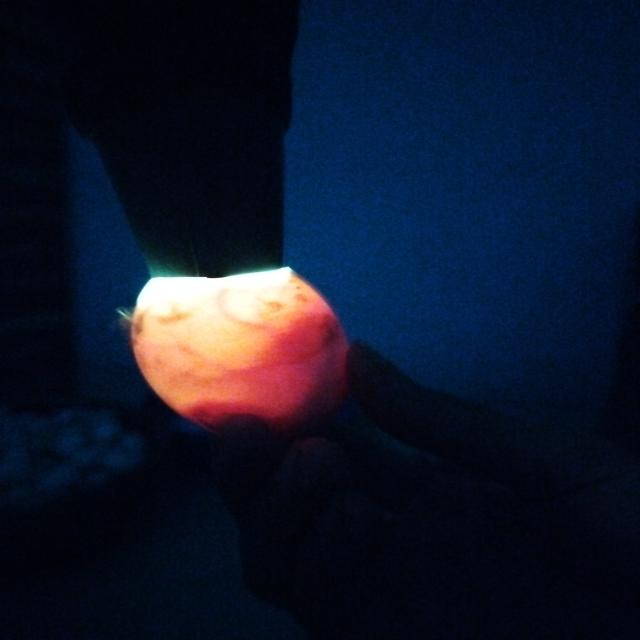Embriao: (190, 321, 350, 444)
